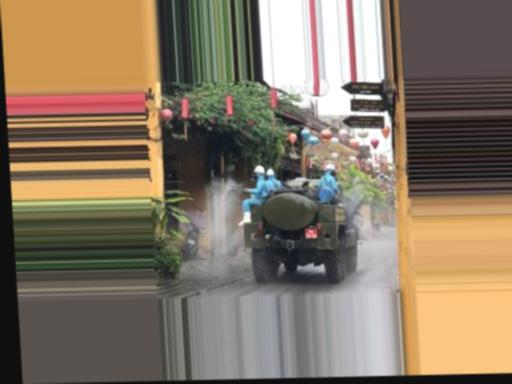License_Plate: (304, 227, 321, 241)
